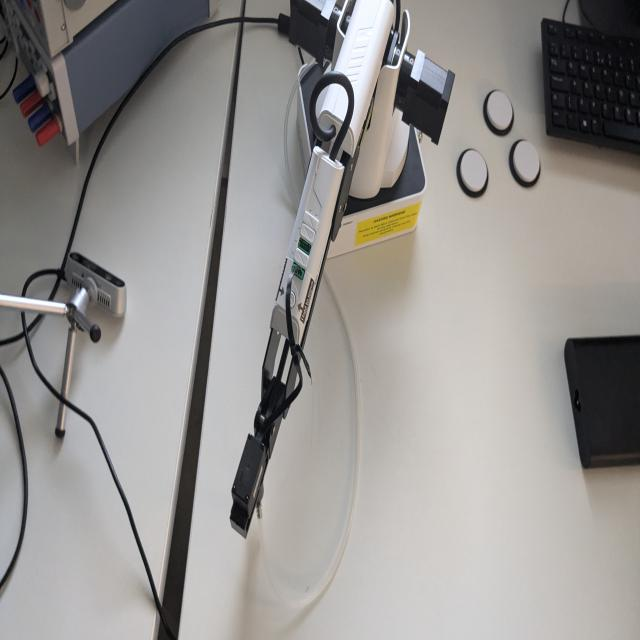Robot-end-effector-HF8z: (225, 430, 274, 542)
